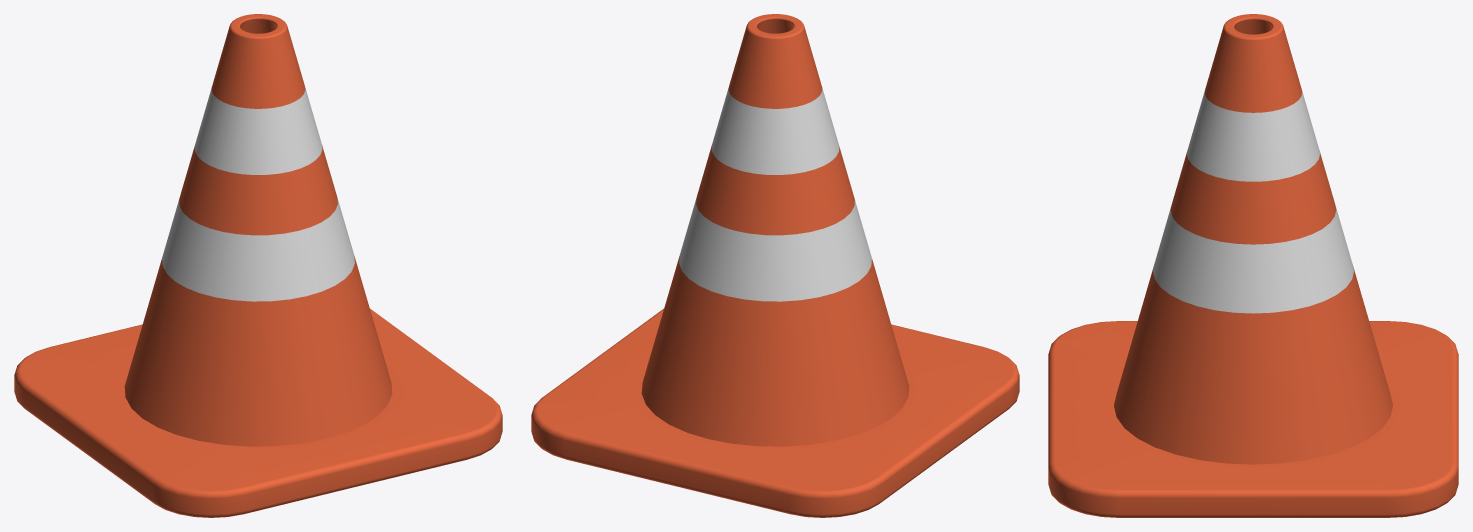
3 views of the same model, side by side, from view 1: azimuth 30°, elevation 25°; view 2: azimuth 150°, elevation 25°; view 3: azimuth 270°, elevation 25° (orthographic). The views are drawn at different scales.
Parts seen in each view (by area): view 1: Cube; view 2: Cube; view 3: Cube.
Boxes of the visible parts, x1,y1,x2,y2 form: Cube: [14, 14, 502, 517]; Cube: [531, 14, 1019, 517]; Cube: [1048, 14, 1458, 517].
Bounding box in the file's own units: 34.09 × 37.36 × 34.09.
